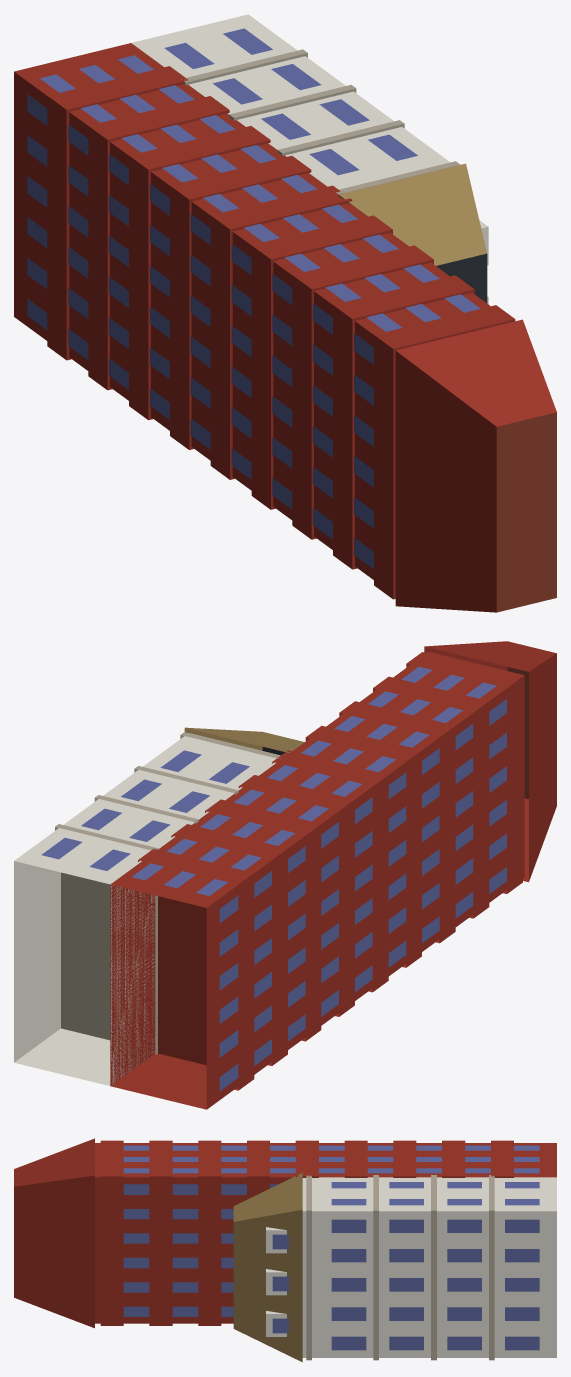
Rendered from construction_2.glb.
3 renders of one model, top to bottom at view 1: azimuth 30°, elevation 25°; view 2: azimuth 150°, elevation 25°; view 3: azimuth 270°, elevation 25°, orthographic. The views are drawn at different scales.
Visible parts, largest first — view 1: construction_2; view 2: construction_2; view 3: construction_2.
Boxes of the visible parts, bbox=[...] form: construction_2: bbox=[14, 14, 556, 612]; construction_2: bbox=[14, 641, 556, 1109]; construction_2: bbox=[14, 1138, 556, 1362].
Bounding box in the file's own units: 14.6 × 14.6 × 47.
